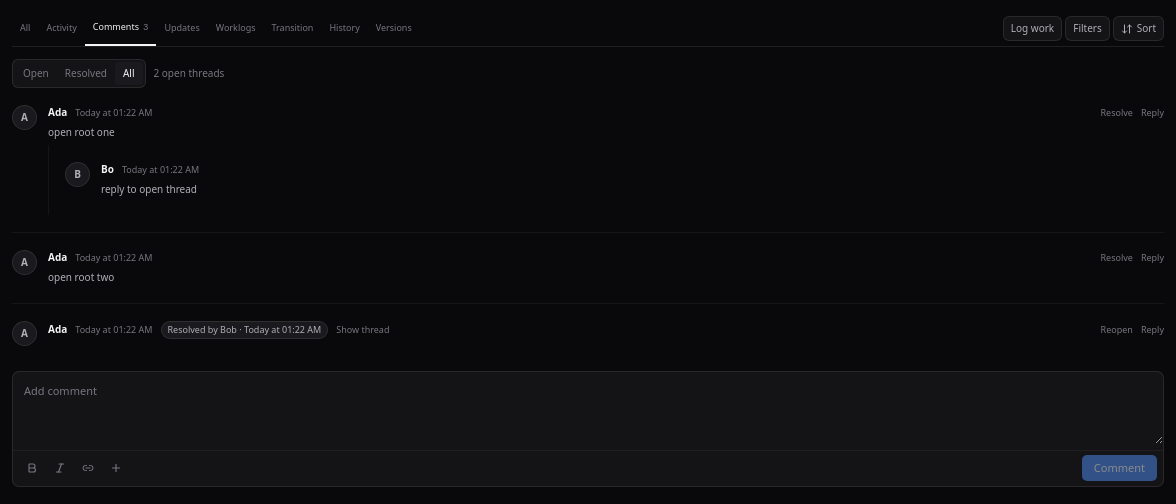
ActivitySection comment resolve (C32) › filters roots via ?resolved= and updates the open-thread count
Expected: the text "open root one" is shown, [48,125,115,139]
Expected: the text "2 open threads" is shown, [154,66,224,81]
What coordinates should you click on to do the following:
click the button "Resolved"
I would click on:
 (86, 74)
Its box is [57,62,115,85].
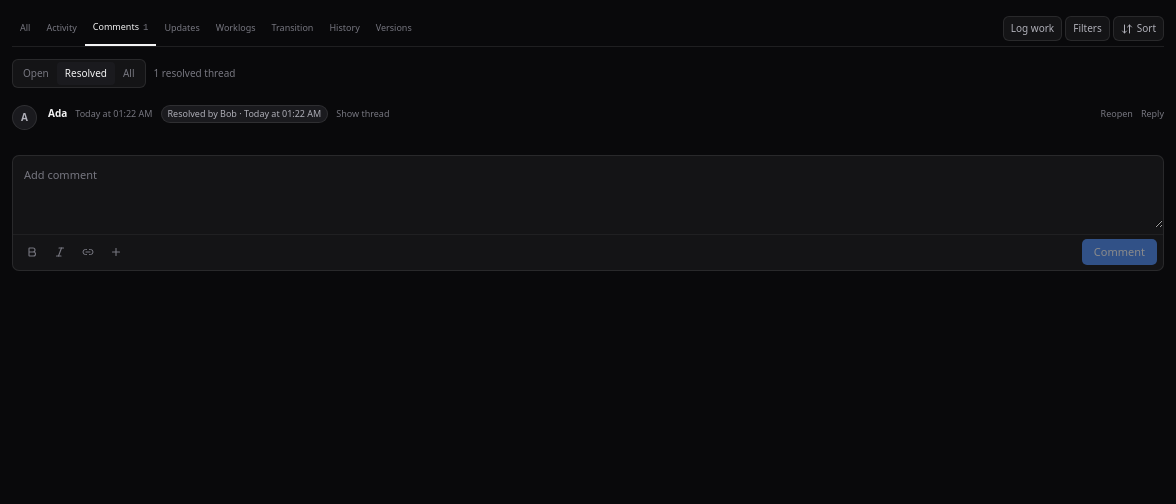
Expected: the text "Resolved by Bob · Today at 01:22 AM" is shown, [160,105,328,122]
Result: the text "open root one" is gone
Result: the text "1 resolved thread" is shown at [154,66,235,81]
What coordinates should you click on to do the following:
click the button "Open"
I would click on:
 (36, 74)
Its box is [15,62,57,85].
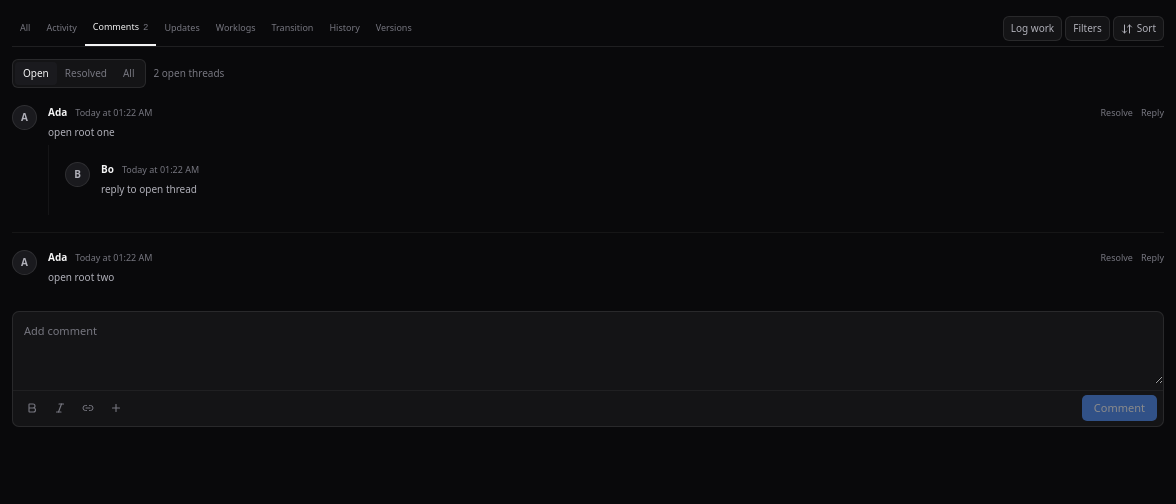
Result: the text "open root one" is shown at [48,125,115,139]
Result: the text "Resolved by Bob" is gone
Result: the text "2 open threads" is shown at [154,66,224,81]
What coordinates should you click on to do the following:
click the button "All"
I would click on:
 (129, 74)
Its box is [115,62,142,85].
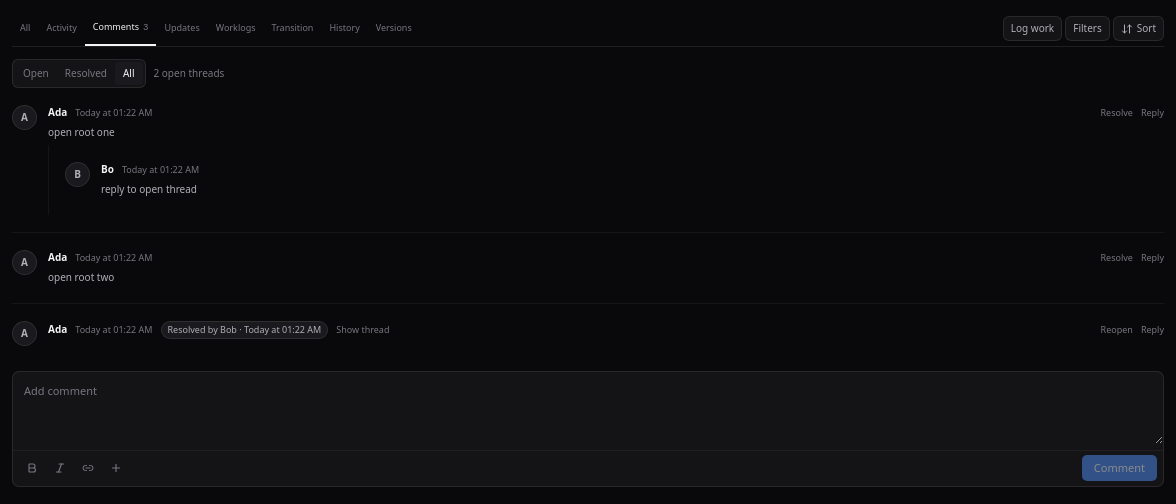
Result: the text "open root one" is shown at [48,125,115,139]
Result: the text "Resolved by Bob · Today at 01:22 AM" is shown at [160,321,328,338]
